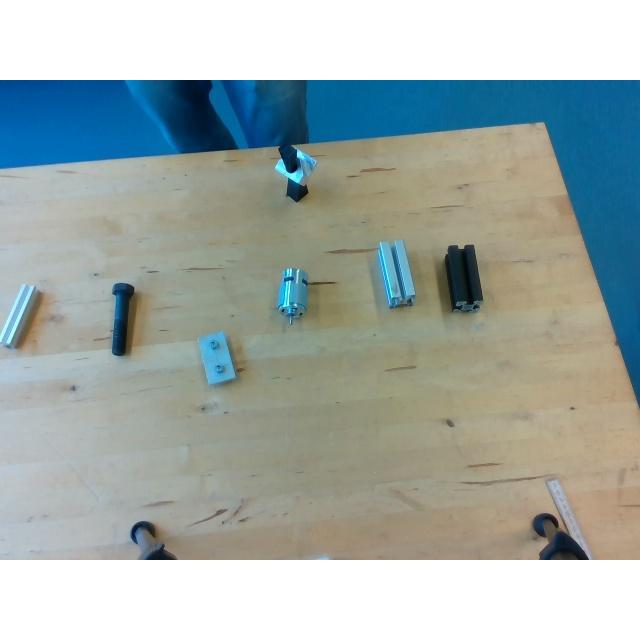F20_20_G: (0, 283, 40, 347)
M20_100: (110, 283, 134, 355)
Motor2: (277, 266, 307, 322)
S40_40_B: (444, 244, 482, 310)
S40_40_G: (378, 240, 414, 308)
